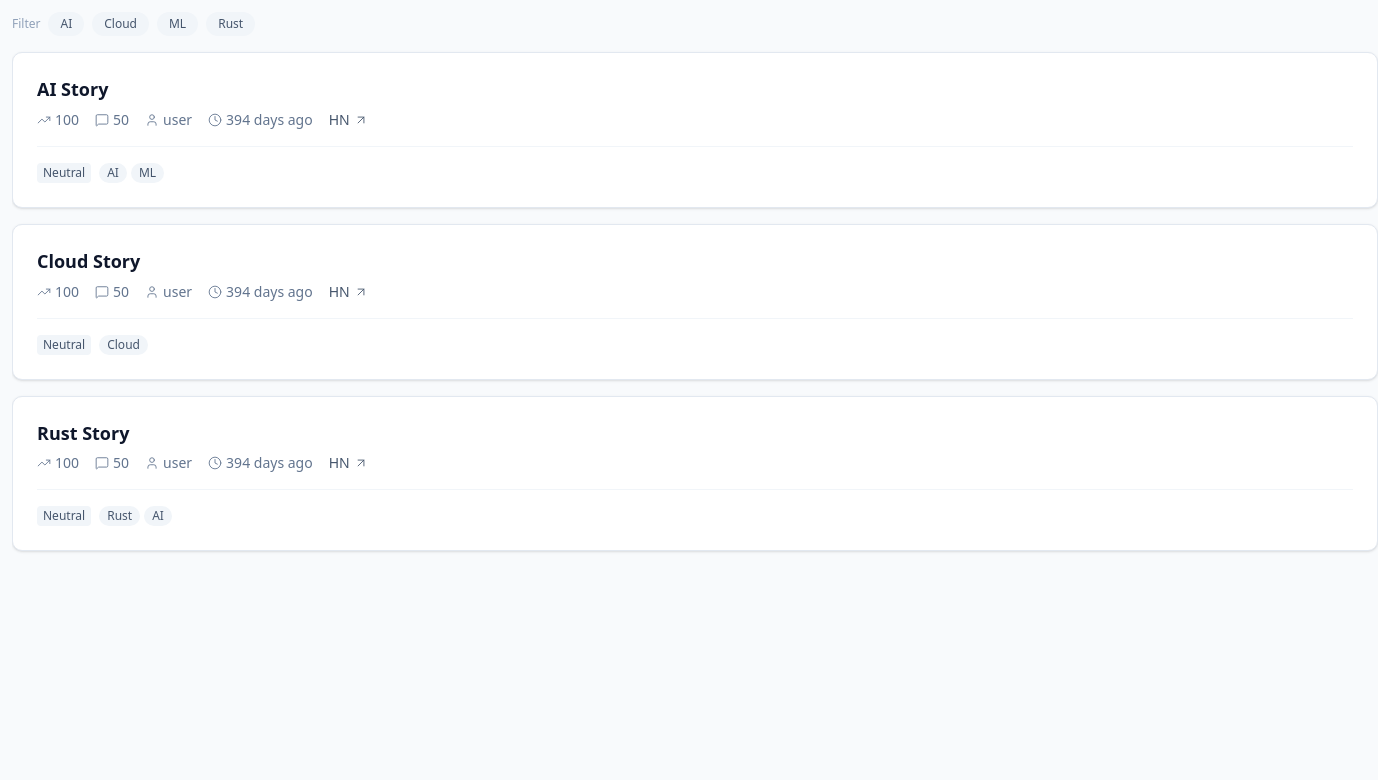
Scenario: TopicFilteredStoryList › clicking a selected topic deselects it, restoring stories
Click the button "Cloud": (121, 24) x1=92 y1=12 x2=149 y2=36
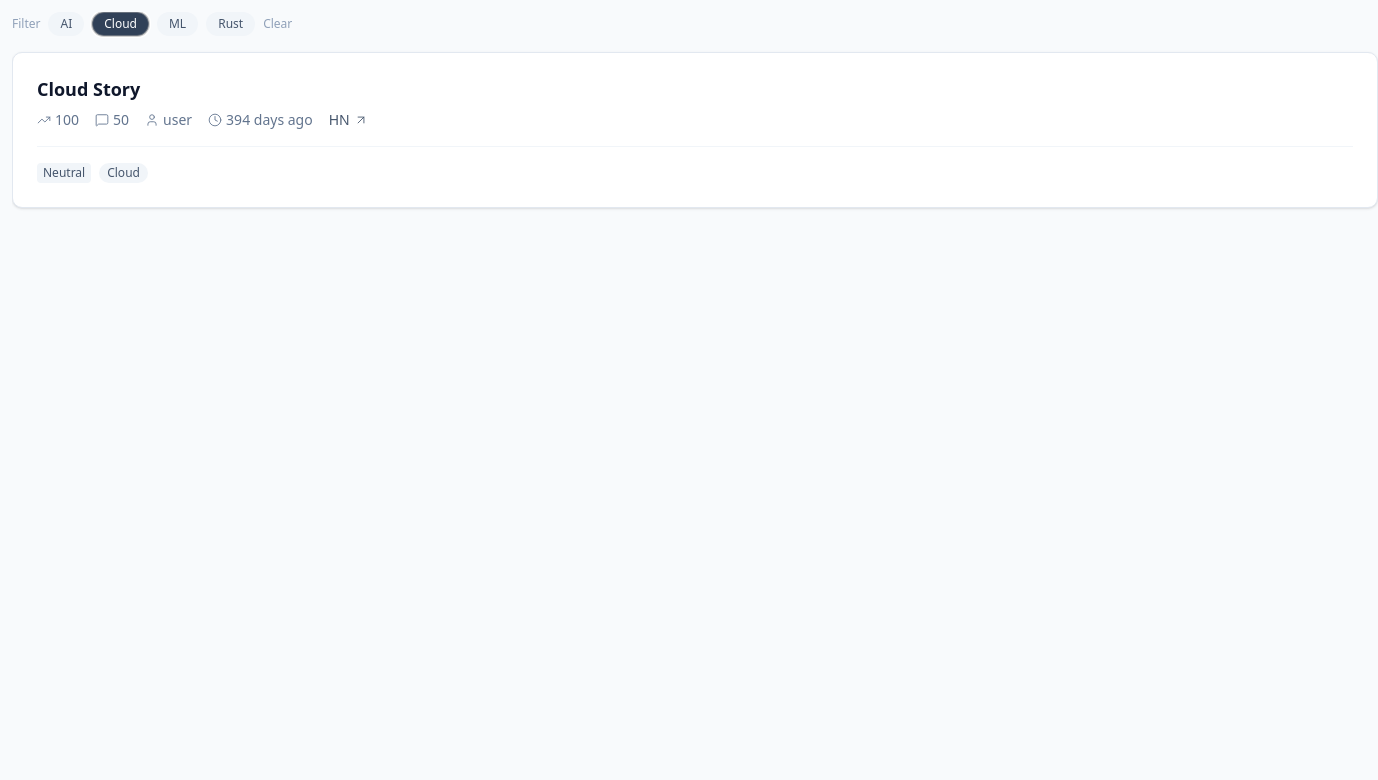
Expected: the heading "AI Story" is gone
Click the button "Cloud": (121, 24) x1=92 y1=12 x2=149 y2=36
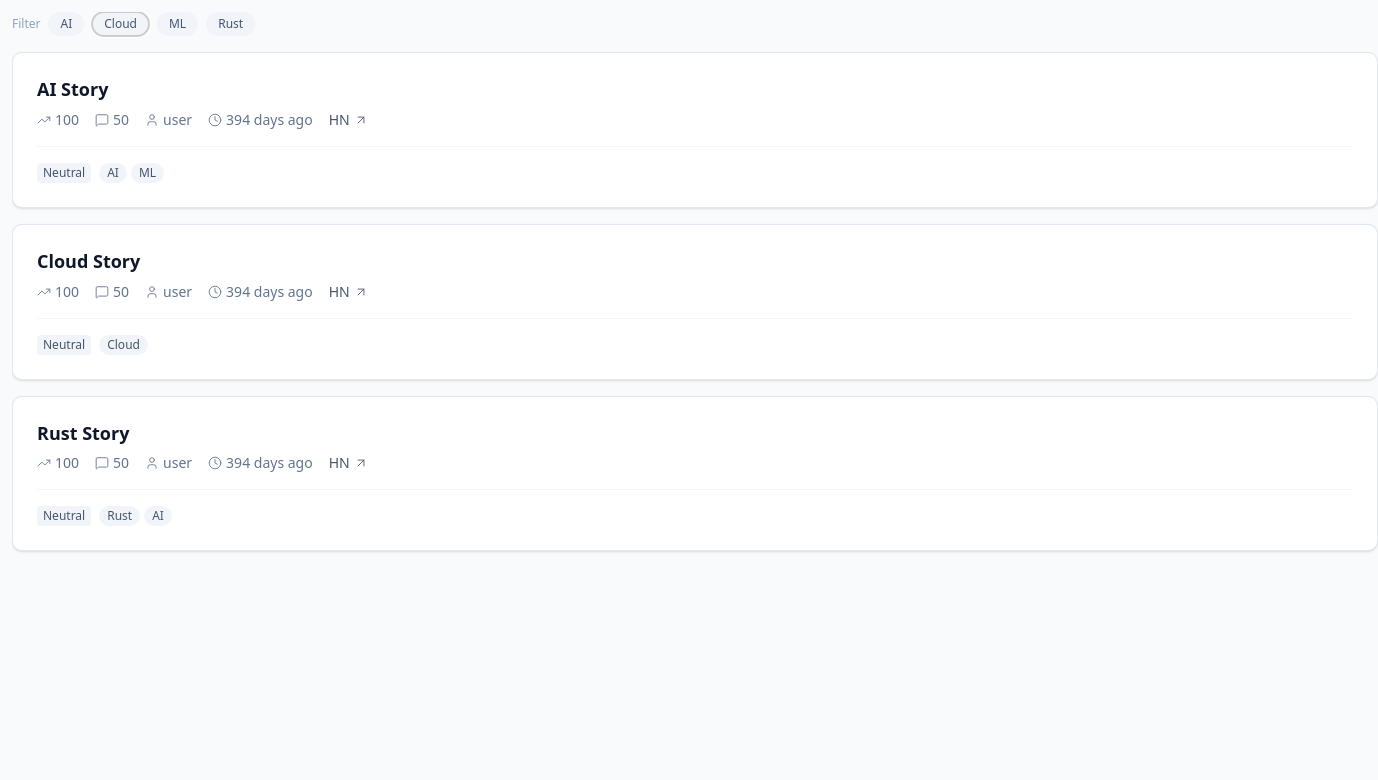
Expected: the heading "Cloud Story" is shown, x1=37 y1=249 x2=140 y2=273
Expected: the heading "AI Story" is shown, x1=37 y1=77 x2=108 y2=101
Expected: the heading "Rust Story" is shown, x1=37 y1=420 x2=129 y2=444
